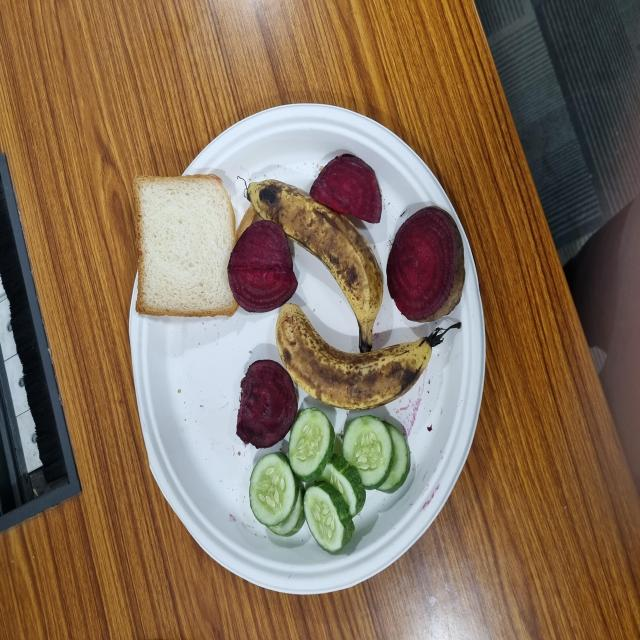banana: (248, 180, 383, 351), (276, 303, 432, 410)
